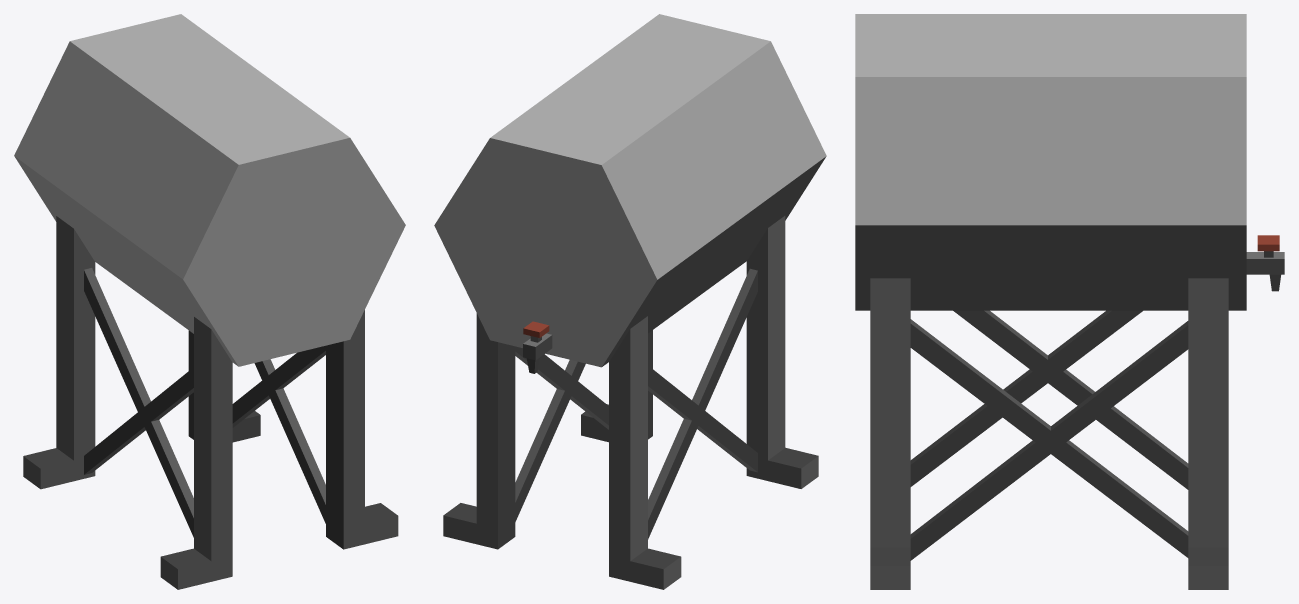
Rendered from SM_Prop_Fuel_Tank_Small_01.fbx.
The picture shows the model from 3 angles, left to right: view 1: azimuth 30°, elevation 25°; view 2: azimuth 150°, elevation 25°; view 3: azimuth 270°, elevation 25°; orthographic projection. The views are drawn at different scales.
Visible parts, largest first — view 1: SM_Prop_Fuel_Tank_Small_01; view 2: SM_Prop_Fuel_Tank_Small_01; view 3: SM_Prop_Fuel_Tank_Small_01.
Part boxes in pixels (<box>): SM_Prop_Fuel_Tank_Small_01: <box>14,14,405,589</box>; SM_Prop_Fuel_Tank_Small_01: <box>434,14,826,589</box>; SM_Prop_Fuel_Tank_Small_01: <box>855,14,1284,589</box>.
Bounding box in the file's own units: 2.73 × 4.88 × 3.94.
